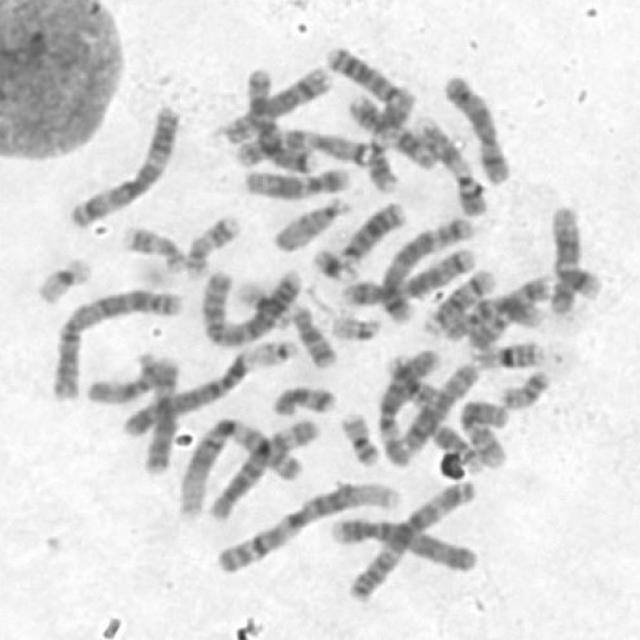A1: (208, 474, 406, 578), (174, 411, 321, 520)
A2: (47, 282, 185, 403), (196, 260, 304, 350)
A3: (344, 475, 479, 602), (63, 98, 184, 229)
B4: (116, 345, 256, 438), (326, 510, 482, 575)
B5: (368, 211, 475, 325), (336, 241, 481, 308)
C10: (453, 396, 513, 472), (446, 296, 552, 332)
C11: (344, 86, 441, 172), (362, 82, 417, 194)
C12: (542, 199, 586, 319), (237, 160, 354, 200)
C6: (201, 411, 320, 522), (372, 344, 442, 470)
C7: (242, 61, 320, 174), (228, 121, 378, 169)
C8: (214, 61, 332, 145), (394, 358, 481, 457)
C9: (411, 108, 491, 219), (477, 266, 600, 322)
D13: (321, 40, 411, 110), (337, 194, 409, 263)
D14: (424, 263, 500, 338), (426, 419, 491, 482)
D15: (78, 349, 178, 407), (267, 188, 354, 254)
E16: (384, 355, 446, 410), (466, 333, 550, 371)
E17: (180, 208, 242, 280), (118, 219, 188, 273)
E18: (285, 298, 339, 369), (266, 378, 340, 418)
F19: (30, 250, 94, 306), (232, 277, 293, 329)
F20: (337, 404, 385, 468), (495, 363, 553, 411)
G21: (307, 240, 362, 284), (466, 315, 504, 359)
G22: (325, 307, 385, 342), (247, 333, 302, 369)
X: (438, 68, 513, 186), (136, 350, 184, 476)
